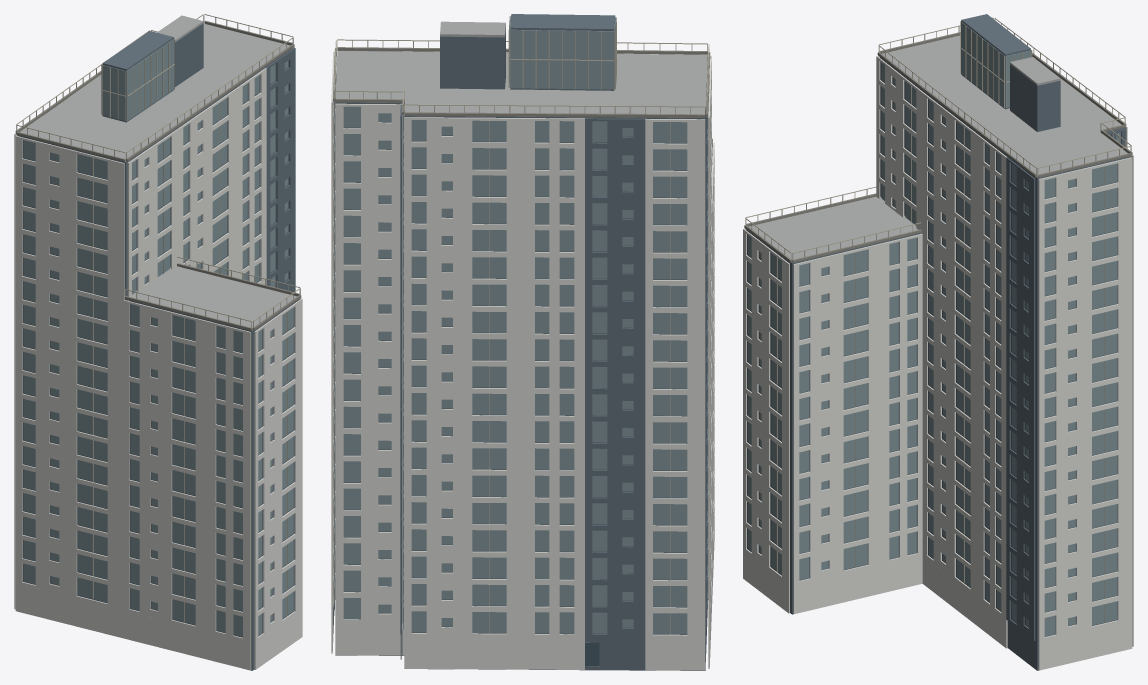
Rendered from bespoke-raemian-onebailey-110.glb.
3 renders of one model, left to right at view 1: azimuth 30°, elevation 25°; view 2: azimuth 150°, elevation 25°; view 3: azimuth 270°, elevation 25°, orthographic. The views are drawn at different scales.
Visible parts, largest first — view 1: 110_pale_bays_navy_shafts_5, 110_pale_bays_navy_shafts_1, 110_editable_massing, 110_glass_roof_crown_4, 110_pale_bays_navy_shafts_3, 110_glass_roof_crown_1; view 2: 110_pale_bays_navy_shafts_5, 110_pale_bays_navy_shafts_1, 110_editable_massing, 110_glass_roof_crown_4, 110_pale_bays_navy_shafts_3, 110_glass_roof_crown_1; view 3: 110_pale_bays_navy_shafts_5, 110_pale_bays_navy_shafts_1, 110_editable_massing, 110_glass_roof_crown_4, 110_pale_bays_navy_shafts_3, 110_glass_roof_crown_1.
Boxes of the visible parts, <box> form: 110_pale_bays_navy_shafts_5: <box>14,24,302,670</box>; 110_pale_bays_navy_shafts_1: <box>23,39,293,636</box>; 110_editable_massing: <box>17,23,299,670</box>; 110_glass_roof_crown_4: <box>20,15,296,330</box>; 110_pale_bays_navy_shafts_3: <box>16,14,300,622</box>; 110_glass_roof_crown_1: <box>15,20,301,330</box>; 110_pale_bays_navy_shafts_5: <box>331,51,714,670</box>; 110_pale_bays_navy_shafts_1: <box>334,16,708,634</box>; 110_editable_massing: <box>335,14,708,670</box>; 110_glass_roof_crown_4: <box>335,21,707,117</box>; 110_pale_bays_navy_shafts_3: <box>333,16,709,634</box>; 110_glass_roof_crown_1: <box>333,47,712,164</box>; 110_pale_bays_navy_shafts_5: <box>743,36,1133,670</box>; 110_pale_bays_navy_shafts_1: <box>748,21,1120,636</box>; 110_editable_massing: <box>746,14,1130,670</box>; 110_glass_roof_crown_4: <box>749,35,1127,263</box>; 110_pale_bays_navy_shafts_3: <box>745,17,1131,623</box>; 110_glass_roof_crown_1: <box>744,32,1132,262</box>.
Bounding box in the file's own units: 37.28 × 62.65 × 40.42.
